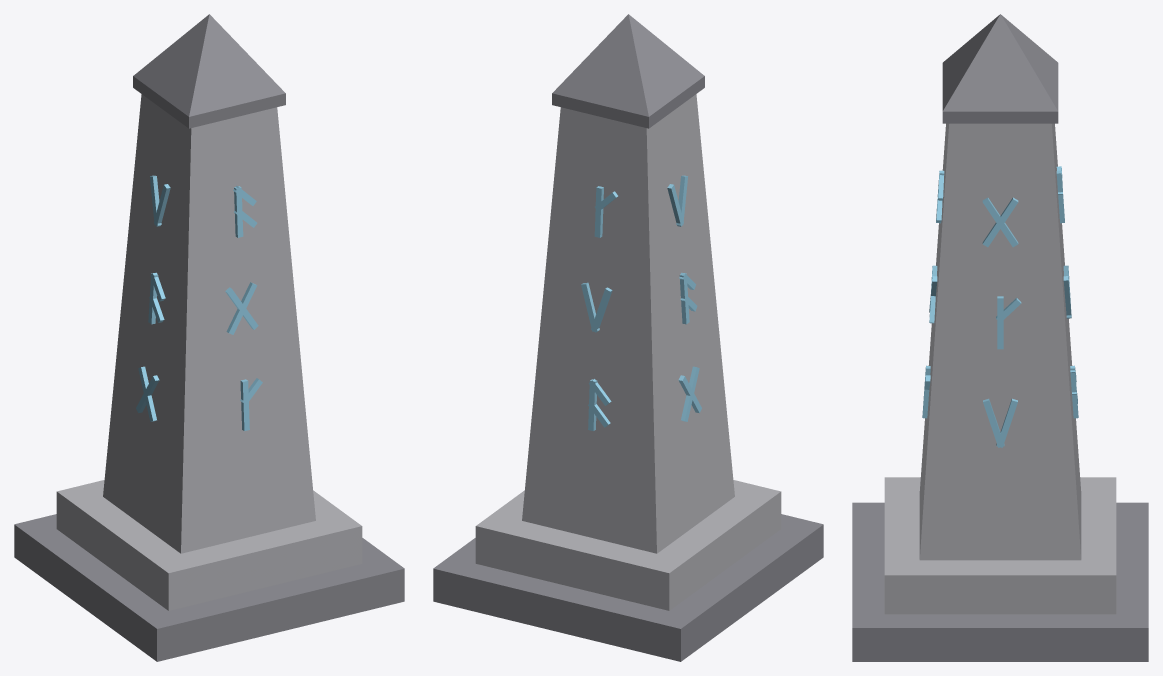
Rendered from prop-rune-obelisk-stone.glb.
The picture shows the model from 3 angles, left to right: view 1: azimuth 30°, elevation 25°; view 2: azimuth 150°, elevation 25°; view 3: azimuth 270°, elevation 25°; orthographic projection. The views are drawn at different scales.
Visible parts, largest first — view 1: prop-rune-obelisk-stone; view 2: prop-rune-obelisk-stone; view 3: prop-rune-obelisk-stone.
Part boxes in pixels (x1,y1,x2,y2): prop-rune-obelisk-stone: [14, 14, 404, 661]; prop-rune-obelisk-stone: [433, 14, 823, 661]; prop-rune-obelisk-stone: [852, 14, 1148, 661].
Bounding box in the file's own units: 1.1 × 2.4 × 1.1.
